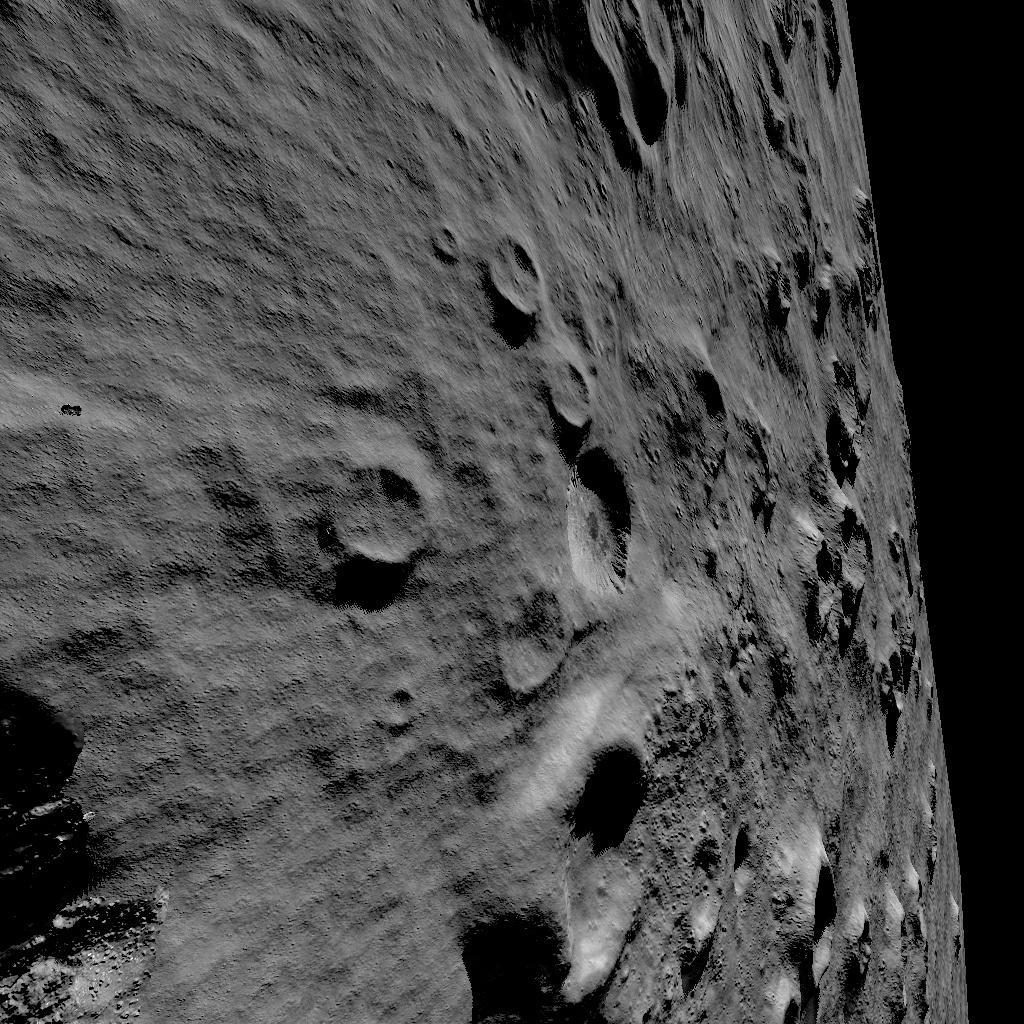Boulders: (0, 647, 190, 1024)
Crater: (485, 692, 669, 1024), (488, 234, 642, 592), (810, 356, 934, 732), (464, 0, 714, 181), (770, 813, 945, 1024), (770, 186, 896, 342), (757, 0, 855, 170), (332, 456, 438, 576), (681, 814, 759, 951), (666, 342, 740, 482)
Plan surface: (178, 0, 450, 446), (205, 612, 466, 1024), (0, 457, 220, 603)
